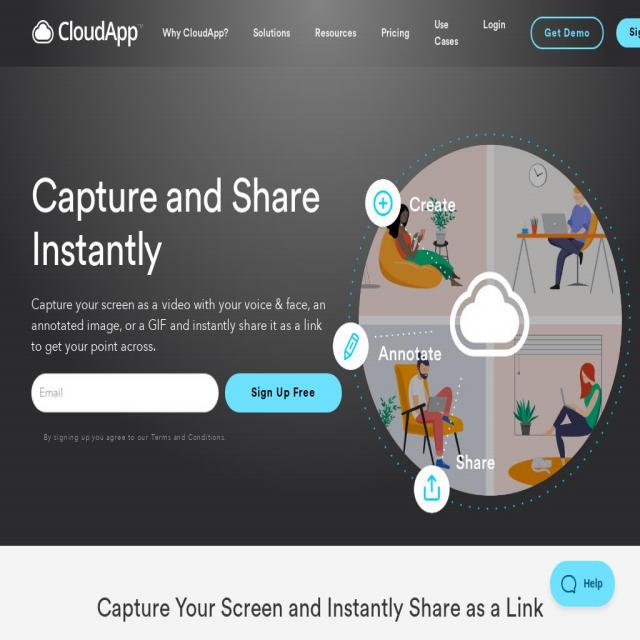login-option: (475, 18, 510, 40)
navigation-links: (159, 12, 640, 63)
sign-up-option: (25, 355, 347, 428)
